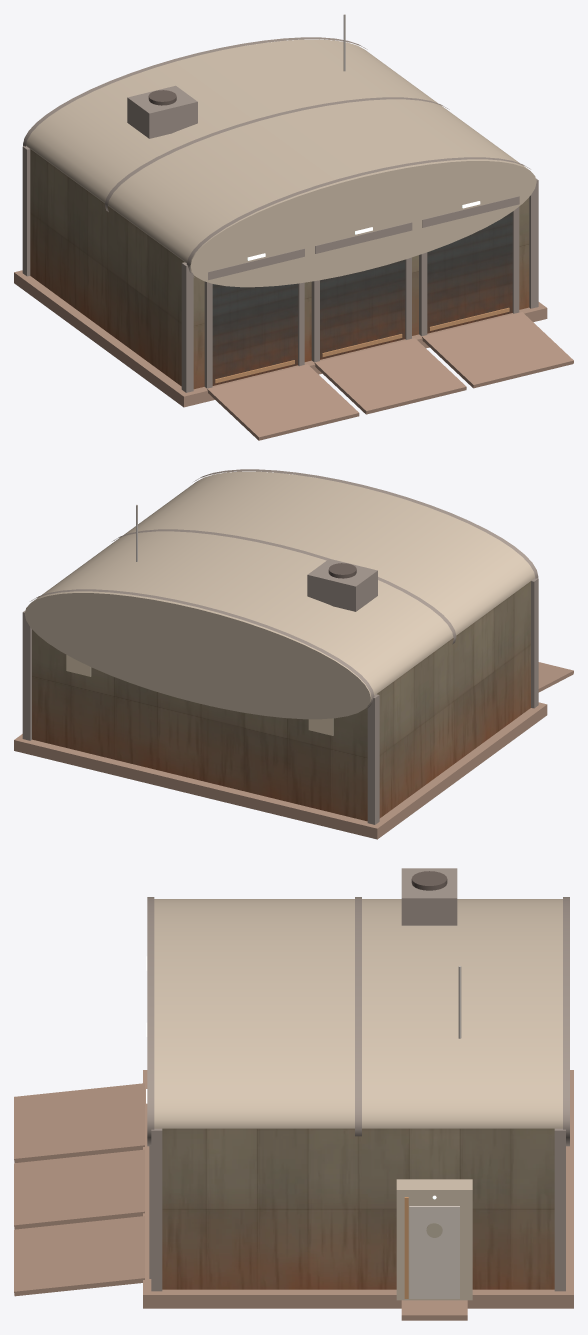
The model's file is I01_rover_garage_3door.glb.
The picture shows the model from 3 angles, top to bottom: view 1: azimuth 30°, elevation 25°; view 2: azimuth 150°, elevation 25°; view 3: azimuth 270°, elevation 25°; orthographic projection. The views are drawn at different scales.
Visible parts, largest first — view 1: hall, foundation_slab, door_slats, roof_rib; view 2: hall, foundation_slab, roof_rib, door_window; view 3: hall, foundation_slab, roof_rib.
Boxes of the visible parts, x1,y1,x2,y2 form: hall: (26,39,536,389); foundation_slab: (14,270,573,440); door_slats: (212,212,512,385); roof_rib: (22,37,538,392); hall: (24,471,535,821); foundation_slab: (14,662,573,839); roof_rib: (22,469,538,824); door_window: (66,655,333,735); hall: (154,871,562,1300); foundation_slab: (14,1070,573,1320); roof_rib: (147,868,569,1291).
Bounding box in the file's own units: 11.45 × 6.46 × 11.05.
8 materials, 2 textured.
